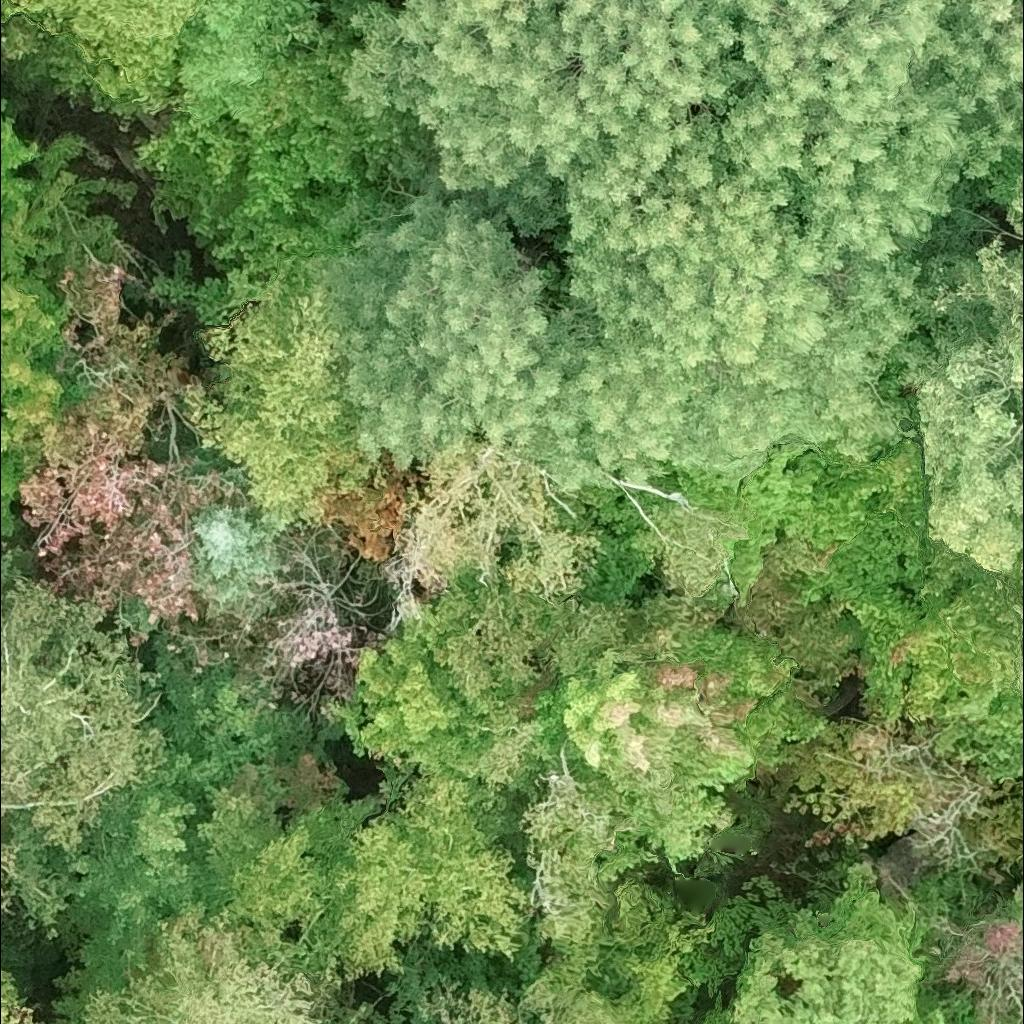crown: (562, 124, 916, 484), (329, 0, 751, 248), (712, 0, 1023, 267), (15, 262, 227, 622), (328, 569, 604, 844), (324, 190, 597, 468), (0, 136, 138, 541), (203, 250, 379, 527), (553, 648, 762, 877), (0, 556, 150, 849), (383, 430, 599, 631), (339, 767, 526, 981), (724, 860, 951, 1023), (914, 239, 1023, 574), (848, 594, 1023, 765), (511, 771, 642, 992), (586, 877, 784, 1023), (83, 906, 314, 1023), (0, 0, 197, 132), (667, 625, 828, 767), (908, 874, 1023, 1023), (190, 502, 284, 625), (433, 971, 622, 1023), (0, 117, 40, 238), (0, 960, 32, 1023), (0, 835, 16, 910), (1008, 195, 1023, 244), (1014, 662, 1023, 691), (0, 95, 10, 112)
